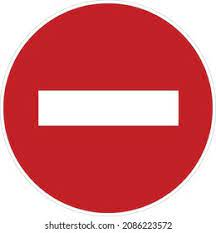No entry: (2, 2, 215, 216)
